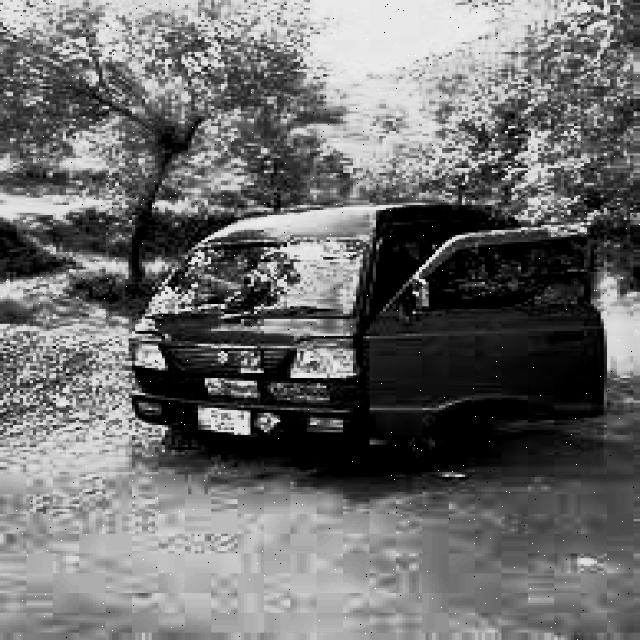LCV: (129, 202, 607, 470)
